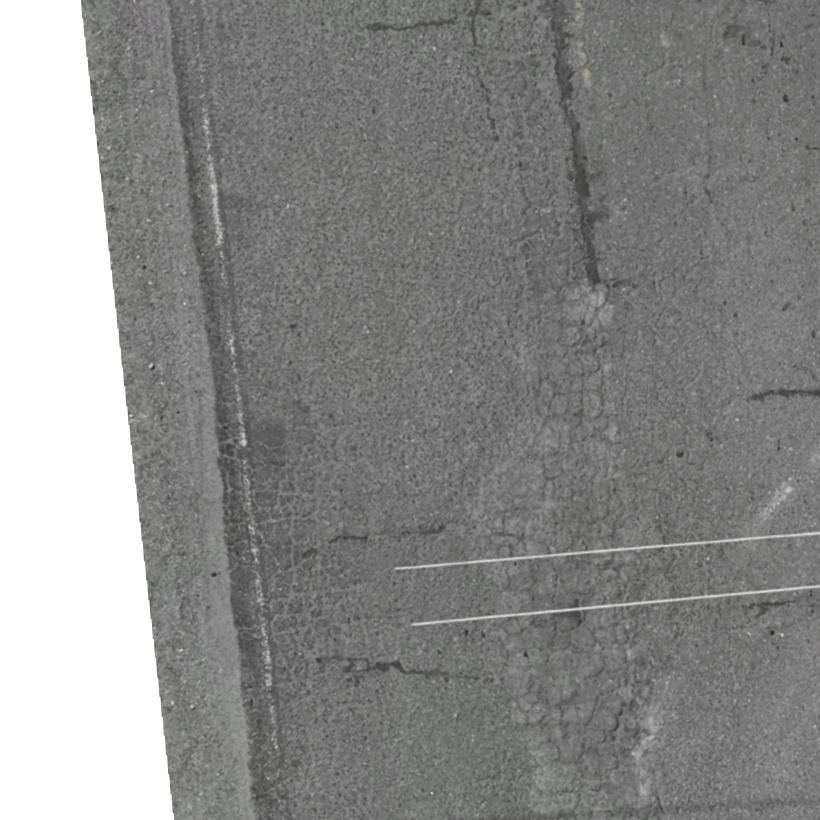GRIETA: (544, 0, 599, 283), (366, 660, 480, 681), (366, 16, 458, 33), (398, 518, 476, 535), (749, 389, 819, 399), (331, 535, 368, 542)
PIEL DE COCODRILO: (478, 283, 670, 819), (610, 248, 754, 671), (216, 417, 366, 792), (459, 0, 585, 304)
